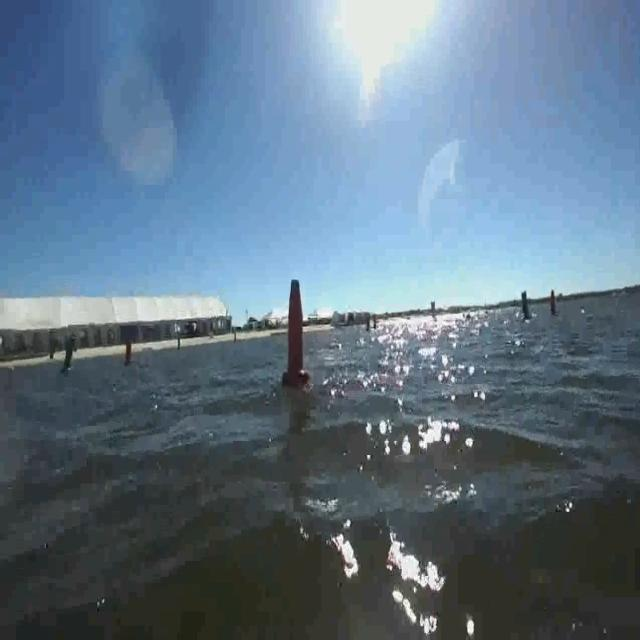green-column-buoy: (60, 335, 78, 375), (520, 286, 534, 326)
red-column-buoy: (282, 276, 311, 392), (122, 334, 134, 370), (550, 288, 559, 316)
